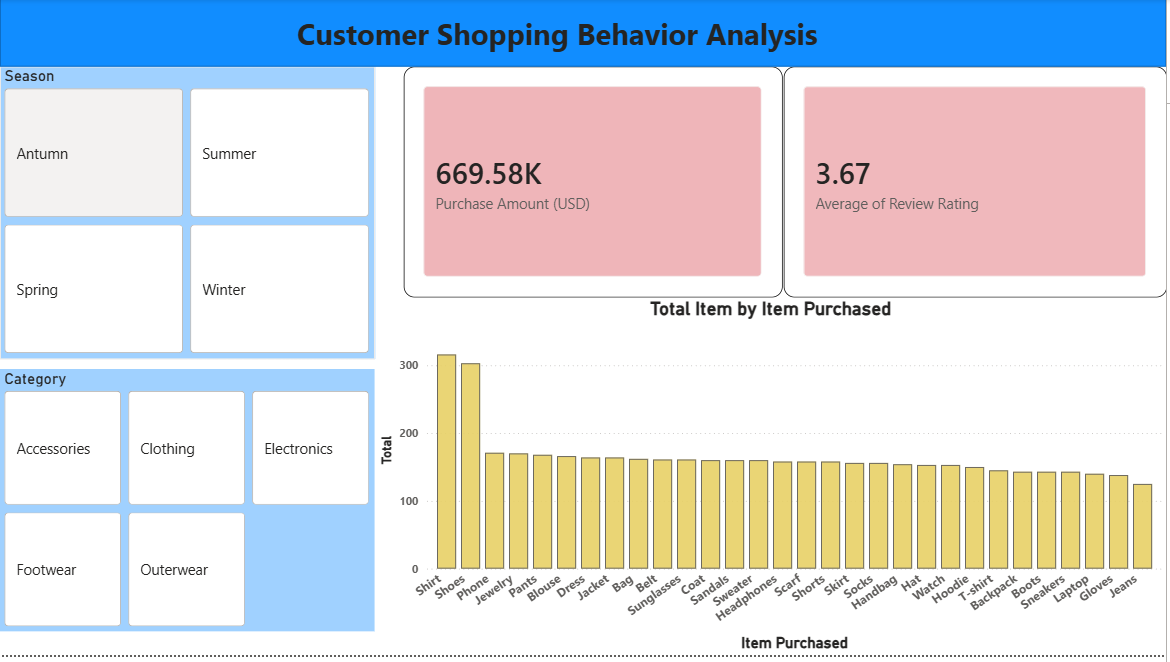

The page's visual inventory and layout, read from the dashboard file:
{"tool":"powerbi","page":{"name":"Page 1","canvas":[1280,720],"ordinal":0},"visuals":[{"type":"cardVisual","fields":{"Data":["Avg(item.Review Rating)"]},"box":[859.7,74.2,420.6,253.6],"z":0},{"type":"cardVisual","title":"Purchase Amount (USD)","fields":{"Data":["Sum(item.Purchase Amount (USD))"]},"box":[443.8,74.2,415.9,253.6],"z":1000},{"type":"columnChart","title":"Total Item by Item Purchased","fields":{"Category":["item.Item Purchased"],"Y":["CountNonNull(item.Item Purchased)"]},"box":[411.3,327.8,869,392.8],"z":2000},{"type":"advancedSlicerVisual","fields":{"Values":["item.Season"]},"box":[0,74.2,411.3,332.4],"z":3000},{"type":"advancedSlicerVisual","fields":{"Values":["item.Category"]},"box":[0,406.7,411.3,287.6],"z":4000},{"type":"shape","box":[0,0,1280.3,74.2],"z":5000},{"type":"textbox","box":[321.6,10.8,660.3,52.6],"z":6000}]}

Visuals, with their boxes in screenshot pixels (x1, y1, x2, y2), scaled from the page's 1280x720 canvas onto the 1170x662 screenshot:
cardVisual - Avg(item.Review Rating): <box>786,68,1169,301</box>
"Purchase Amount (USD)" cardVisual: <box>406,68,786,301</box>
"Total Item by Item Purchased" columnChart: <box>376,301,1169,661</box>
advancedSlicerVisual - item.Season: <box>0,68,376,374</box>
advancedSlicerVisual - item.Category: <box>0,374,376,638</box>
shape: <box>0,0,1169,68</box>
textbox: <box>294,10,898,58</box>
